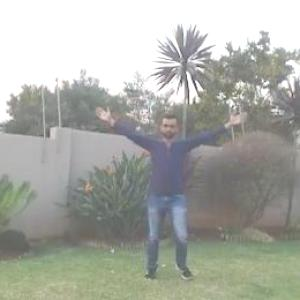takeoff: (91, 106, 263, 283)
